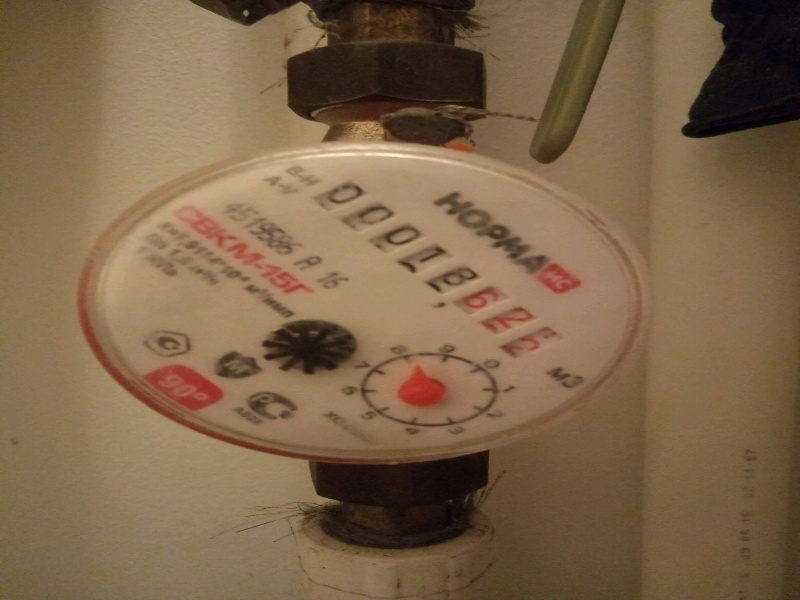meter: (331, 214, 588, 321)
